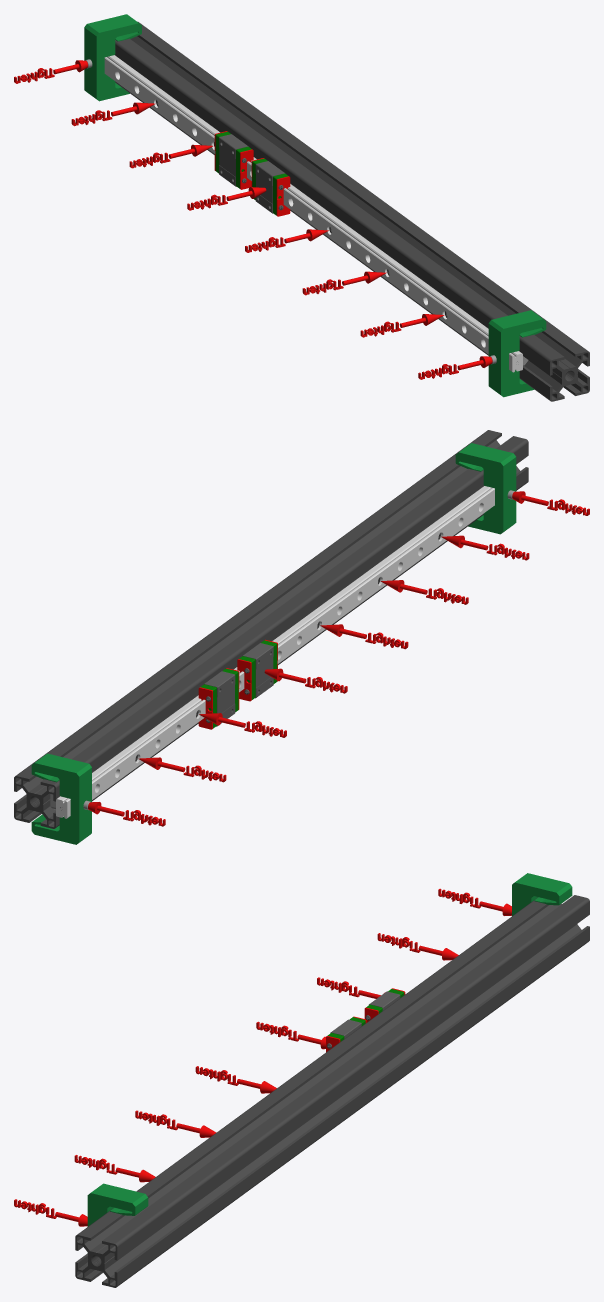
3 renders of one model, top to bottom at view 1: azimuth 30°, elevation 25°; view 2: azimuth 150°, elevation 25°; view 3: azimuth 330°, elevation 25°, orthographic. The views are drawn at different scales.
Parts seen in each view (by area): view 1: 01_02__XP__Alu_3030_Beam_1___V1.0 v14, MGNR12R550HM_FILE_2 v3, 02_47__XP__Fix_MGN12_Rail___V1.0 v4, 02_47__XP__Fix_MGN12_Rail___V1.0 v005, MGN12CZ0HM_FILE_3 v1, MGN12CZ0HM_FILE_3 v002; view 2: 01_02__XP__Alu_3030_Beam_1___V1.0 v14, MGNR12R550HM_FILE_2 v3, 02_47__XP__Fix_MGN12_Rail___V1.0 v005, 02_47__XP__Fix_MGN12_Rail___V1.0 v4, MGN12CZ0HM_FILE_3 v002, MGN12CZ0HM_FILE_3 v1; view 3: 01_02__XP__Alu_3030_Beam_1___V1.0 v14, 02_47__XP__Fix_MGN12_Rail___V1.0 v4, 02_47__XP__Fix_MGN12_Rail___V1.0 v005, MGN12CZ0HM_FILE_3 v1, MGN12CZ0HM_FILE_3 v002.
Boxes of the visible parts, x1,y1,x2,y2 form: 01_02__XP__Alu_3030_Beam_1___V1.0 v14: (115, 21, 589, 401); MGNR12R550HM_FILE_2 v3: (104, 55, 522, 372); 02_47__XP__Fix_MGN12_Rail___V1.0 v4: (488, 310, 546, 397); 02_47__XP__Fix_MGN12_Rail___V1.0 v005: (84, 14, 141, 101); MGN12CZ0HM_FILE_3 v1: (214, 131, 253, 189); MGN12CZ0HM_FILE_3 v002: (251, 158, 290, 216); 01_02__XP__Alu_3030_Beam_1___V1.0 v14: (14, 430, 528, 828); MGNR12R550HM_FILE_2 v3: (56, 486, 494, 818); 02_47__XP__Fix_MGN12_Rail___V1.0 v005: (31, 753, 91, 844); 02_47__XP__Fix_MGN12_Rail___V1.0 v4: (455, 443, 516, 534); MGN12CZ0HM_FILE_3 v002: (237, 639, 277, 701); MGN12CZ0HM_FILE_3 v1: (198, 668, 239, 729); 01_02__XP__Alu_3030_Beam_1___V1.0 v14: (75, 895, 589, 1287); 02_47__XP__Fix_MGN12_Rail___V1.0 v4: (87, 1183, 148, 1226); 02_47__XP__Fix_MGN12_Rail___V1.0 v005: (512, 873, 572, 915); MGN12CZ0HM_FILE_3 v1: (364, 988, 405, 1022); MGN12CZ0HM_FILE_3 v002: (326, 1016, 366, 1052).
Bounding box in the file's own units: 0.1007 × 0.049 × 0.585.
